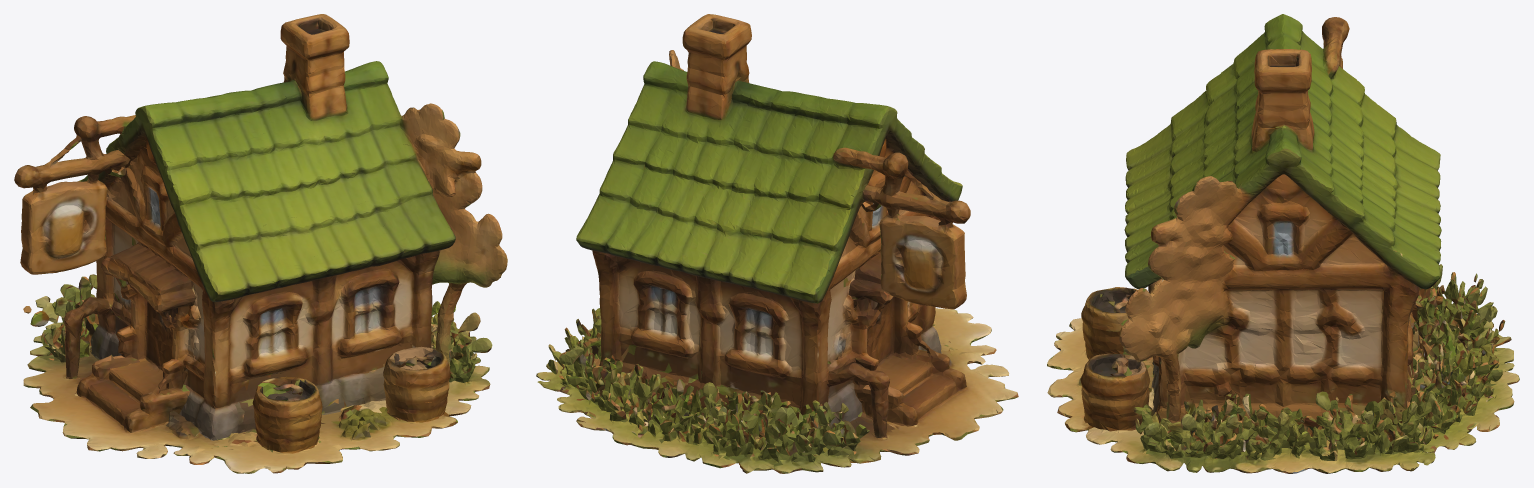
File: wc-home_large-paint.glb
3 views of the same model, side by side, from view 1: azimuth 30°, elevation 25°; view 2: azimuth 150°, elevation 25°; view 3: azimuth 270°, elevation 25° (orthographic). The views are drawn at different scales.
Visible parts, largest first — view 1: geometry_0; view 2: geometry_0; view 3: geometry_0.
Boxes of the visible parts, x1,y1,x2,y2 form: geometry_0: [14, 14, 507, 473]; geometry_0: [536, 14, 1018, 473]; geometry_0: [1047, 14, 1519, 473].
Bounding box in the file's own units: 2 × 1.61 × 1.94.
Materials: 1 (1 with a texture image).
